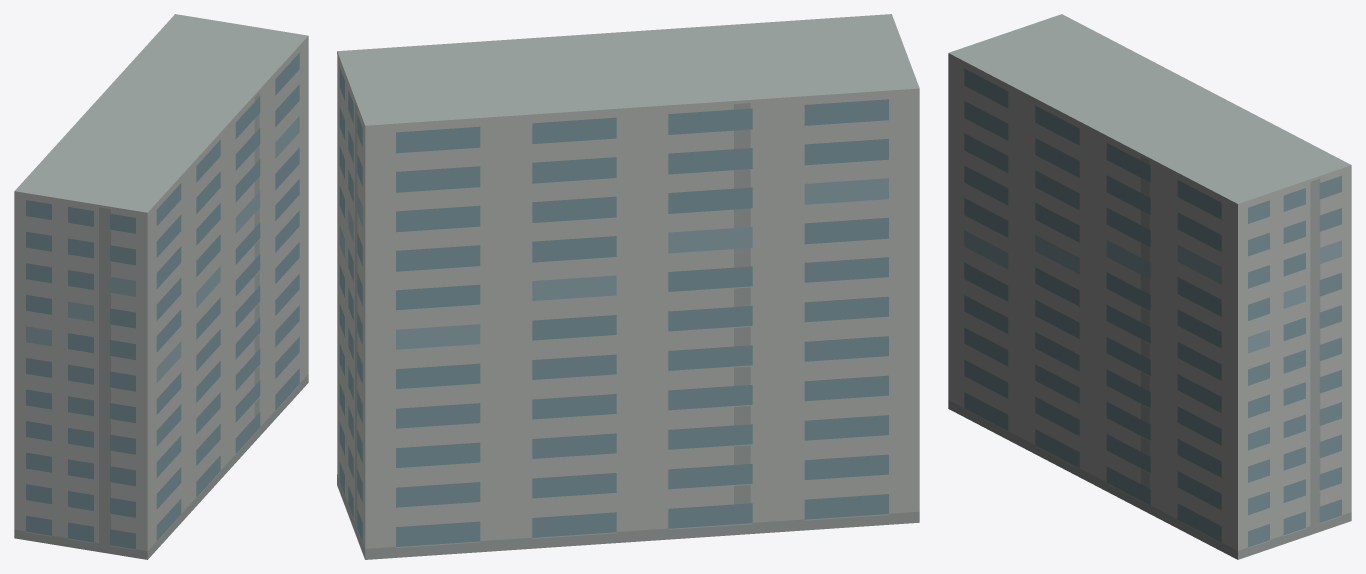
File: residential-72b34590-4e94-4cfa-98ec-30984bd9fc8f.glb
3 renders of one model, left to right at view 1: azimuth 30°, elevation 25°; view 2: azimuth 150°, elevation 25°; view 3: azimuth 270°, elevation 25°, orthographic. The views are drawn at different scales.
Parts seen in each view (by area): view 1: residential-72b34590-4e94-4cfa-98ec-30984bd9fc8f.tmp; view 2: residential-72b34590-4e94-4cfa-98ec-30984bd9fc8f.tmp; view 3: residential-72b34590-4e94-4cfa-98ec-30984bd9fc8f.tmp.
Part boxes in pixels (x1=…): residential-72b34590-4e94-4cfa-98ec-30984bd9fc8f.tmp: x1=14, y1=14, x2=308, y2=559; residential-72b34590-4e94-4cfa-98ec-30984bd9fc8f.tmp: x1=337, y1=14, x2=919, y2=559; residential-72b34590-4e94-4cfa-98ec-30984bd9fc8f.tmp: x1=948, y1=14, x2=1351, y2=559.
Bounding box in the file's own units: 38.95 × 34 × 34.94.
